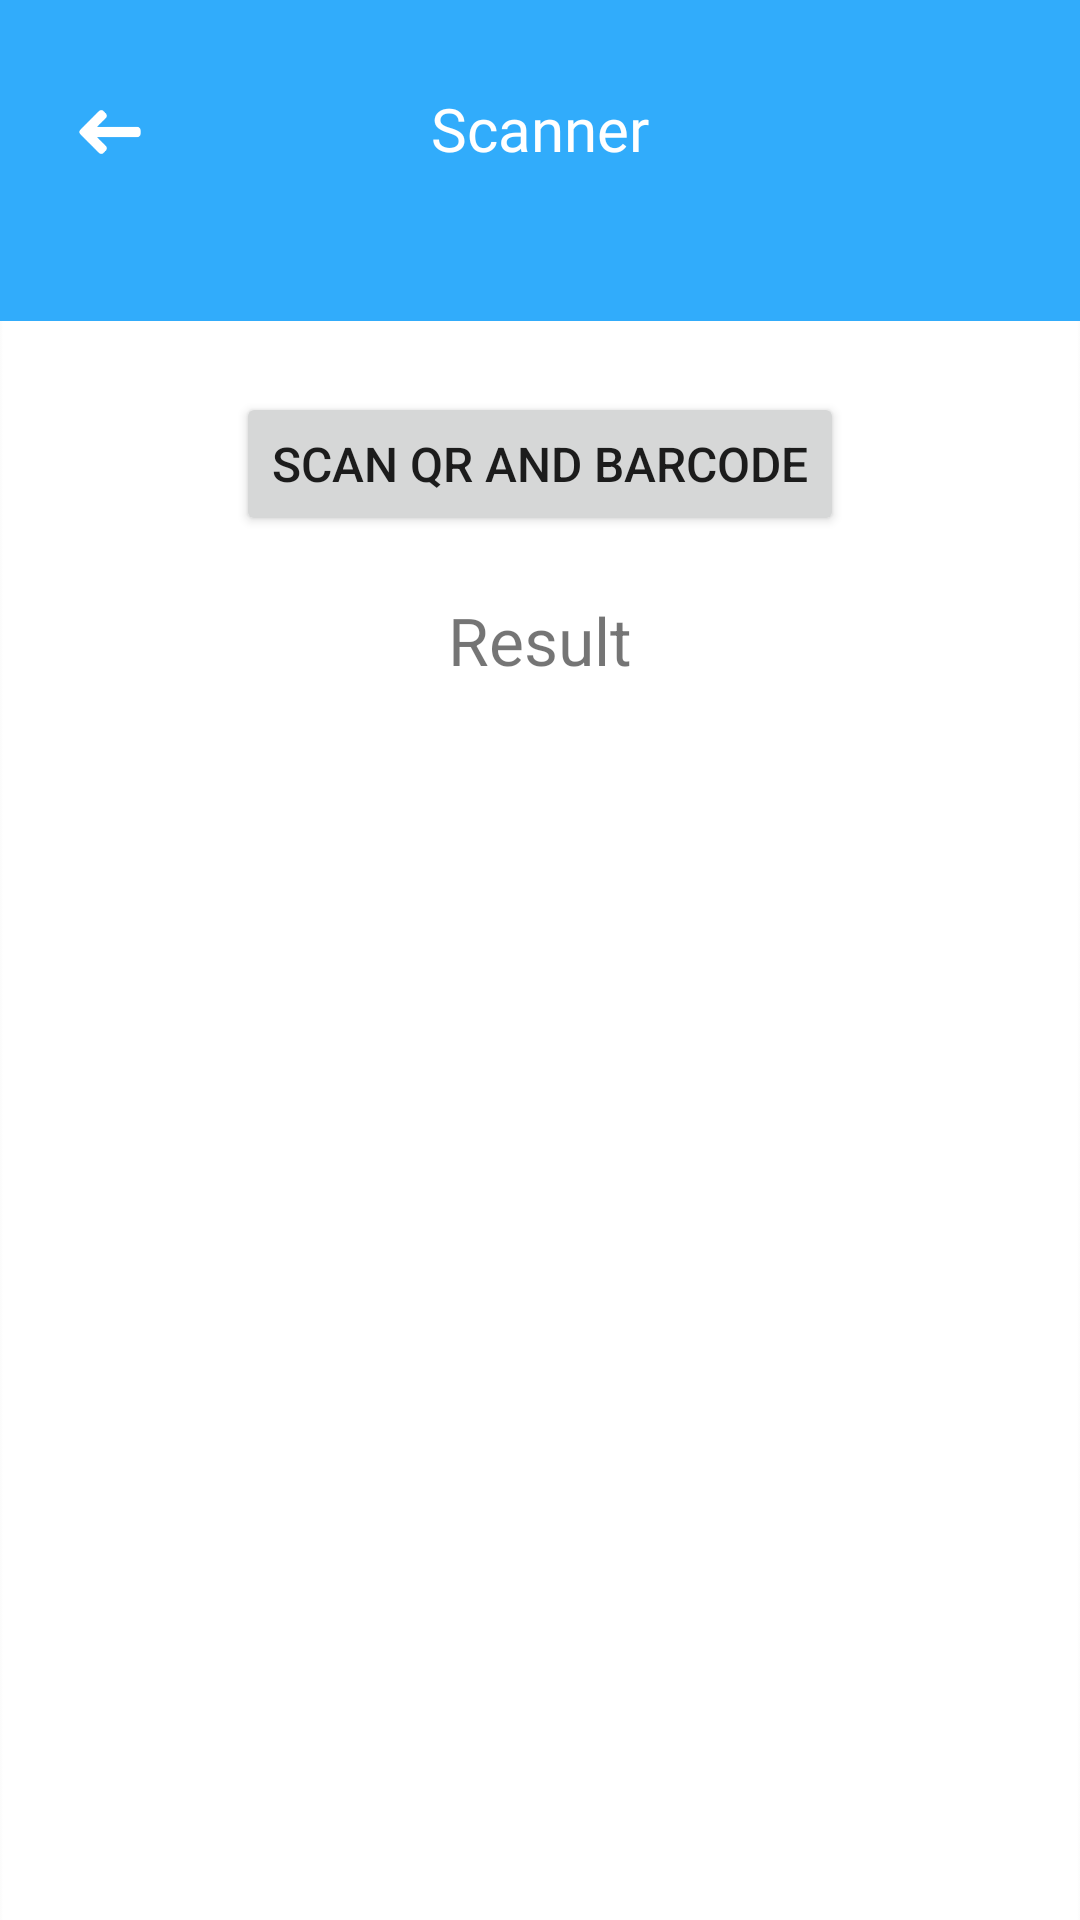

Icons on this 1080px×1920px Android screen, each with its box as bbox(x1, y1, x2, y2):
back: bbox(79, 110, 141, 154)
